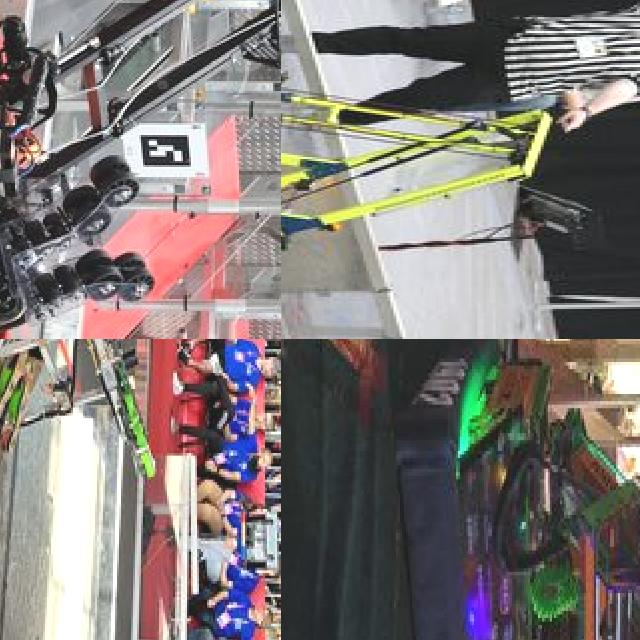FRC-Robots: (0, 0, 281, 339), (281, 0, 549, 331), (389, 339, 640, 640), (0, 339, 173, 536)
